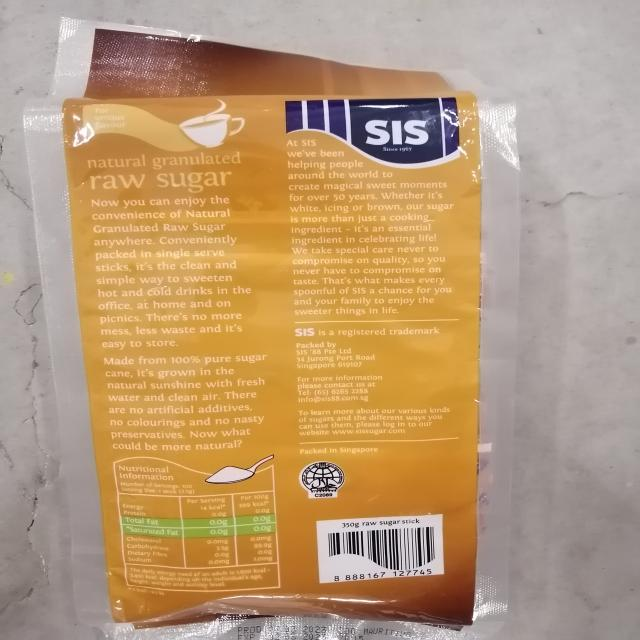object_name: (35, 34, 492, 622)
